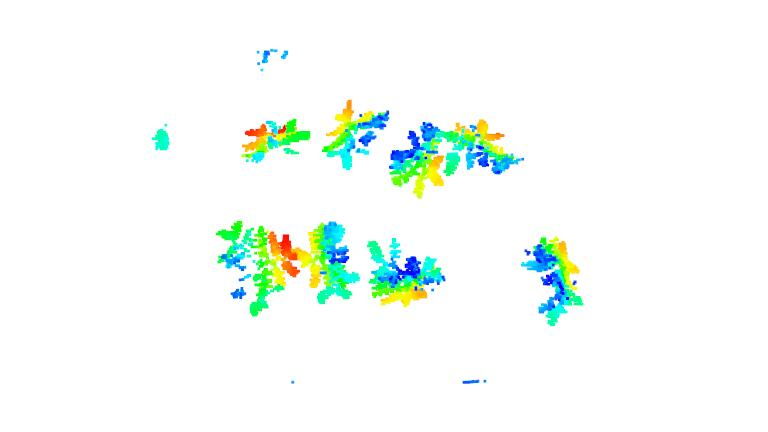chickpea: (218, 219, 299, 317), (292, 218, 360, 306), (368, 236, 447, 309), (524, 236, 586, 328), (316, 98, 391, 173), (443, 117, 526, 175), (385, 121, 448, 195), (240, 115, 314, 164)
